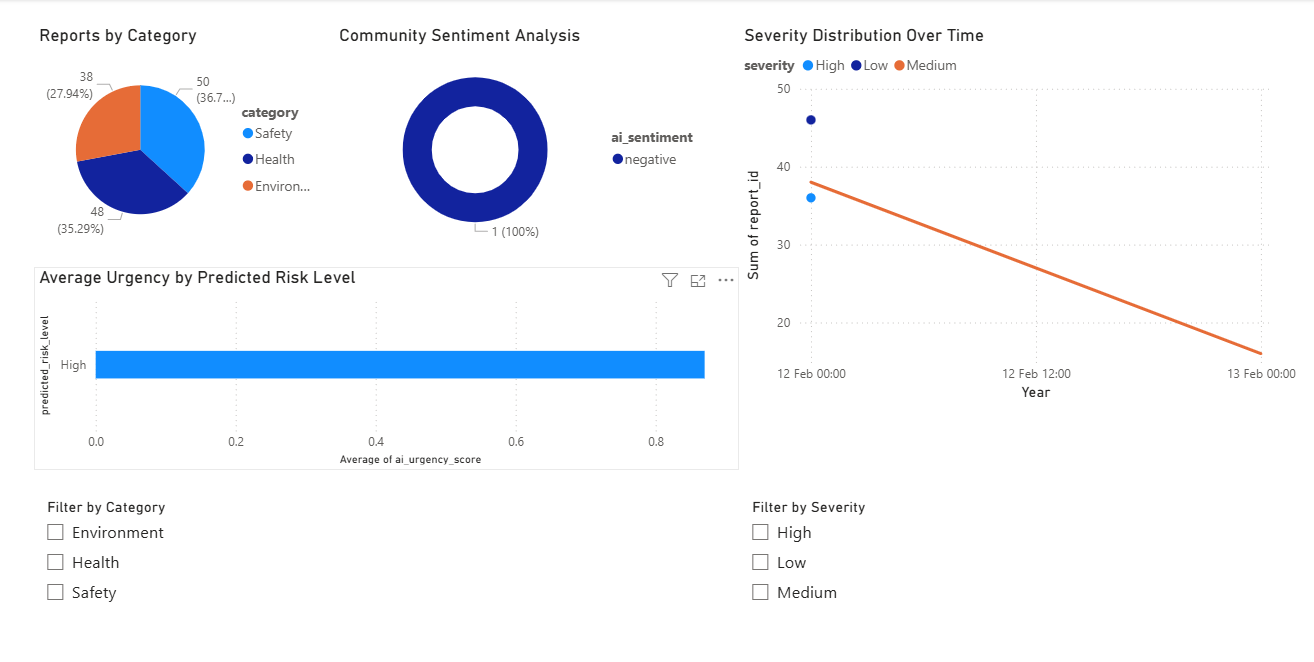

Layout of this report page (visuals, bound fields, positions):
{"tool":"powerbi","page":{"name":"Page 1","canvas":[1280,720],"ordinal":0},"visuals":[{"type":"pieChart","title":"Reports by Category","fields":{"Y":["Sum(CommunityReports.report_id)"],"Category":["CommunityReports.category"]},"box":[33.1,25.3,291.8,223.7],"z":0},{"type":"lineChart","title":"Severity Distribution Over Time","fields":{"Series":["CommunityReports.severity"],"Y":["Sum(CommunityReports.report_id)"],"Category":["CommunityReports.created_at.Variation.Date Hierarchy.Year","CommunityReports.created_at.Variation.Date Hierarchy.Quarter","CommunityReports.created_at.Variation.Date Hierarchy.Month","CommunityReports.created_at.Variation.Date Hierarchy.Day"]},"box":[718.8,25.3,546.6,370.6],"z":1},{"type":"clusteredBarChart","title":"Average Urgency by Predicted Risk Level","fields":{"Category":["CommunityReports.predicted_risk_level"],"Y":["Avg(CommunityReports.ai_urgency_score)"]},"box":[33.1,260.7,685.7,197.4],"z":2},{"type":"donutChart","title":"Community Sentiment Analysis","fields":{"Category":["CommunityReports.ai_sentiment"],"Y":["Sum(CommunityReports.report_id)"]},"box":[324.9,25.3,371.6,223.7],"z":3},{"type":"slicer","fields":{"Values":["CommunityReports.category"]},"box":[33,480.5,686,197],"z":4},{"type":"slicer","fields":{"Values":["CommunityReports.severity"]},"box":[718.8,480.5,546.6,197.4],"z":5}]}

Visuals, with their boxes on the page's 1280x720 design canvas (x1, y1, x2, y2). These are canvas units, not pixel positions in the 1314x662 screenshot, which may show the page scaled, cropped or inside an application window:
"Reports by Category" pieChart: [33, 25, 325, 249]
"Severity Distribution Over Time" lineChart: [719, 25, 1265, 396]
"Average Urgency by Predicted Risk Level" clusteredBarChart: [33, 261, 719, 458]
"Community Sentiment Analysis" donutChart: [325, 25, 696, 249]
slicer - CommunityReports.category: [33, 480, 719, 678]
slicer - CommunityReports.severity: [719, 480, 1265, 678]
